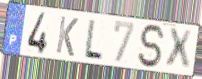4: (26, 10, 49, 56)
7: (112, 19, 137, 66)
K: (54, 15, 80, 59)
L: (82, 17, 104, 62)
S: (137, 23, 167, 70)
X: (165, 27, 194, 71)
